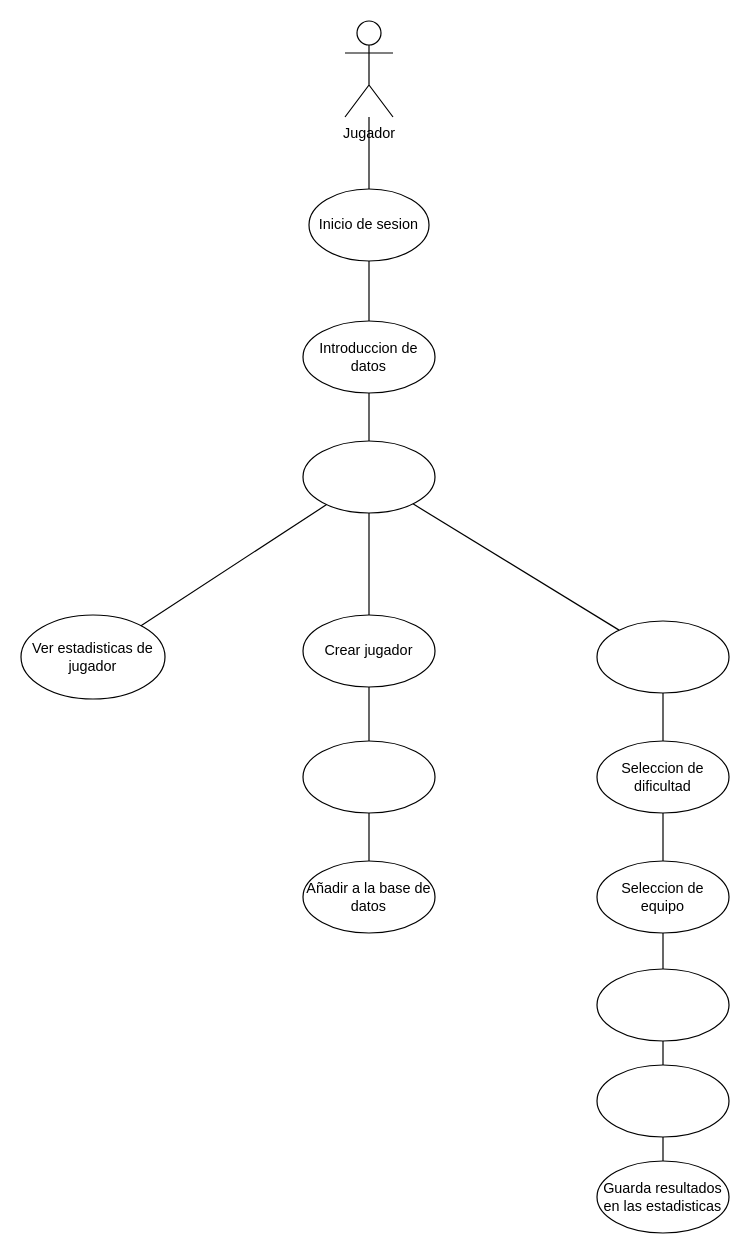
Some shapes in this 750 by 1254 pixel diagram are drawn without their labels. Each missing label, with the centre of its shape:
"Abre la cuenta" belongs at [368,476].
"Enseña resultados" belongs at [662,1100].
"Partida" belongs at [662,1004].
"Partida contra IA" belongs at [662,656].
"Rellena plantilla de jugador" belongs at [368,776].
